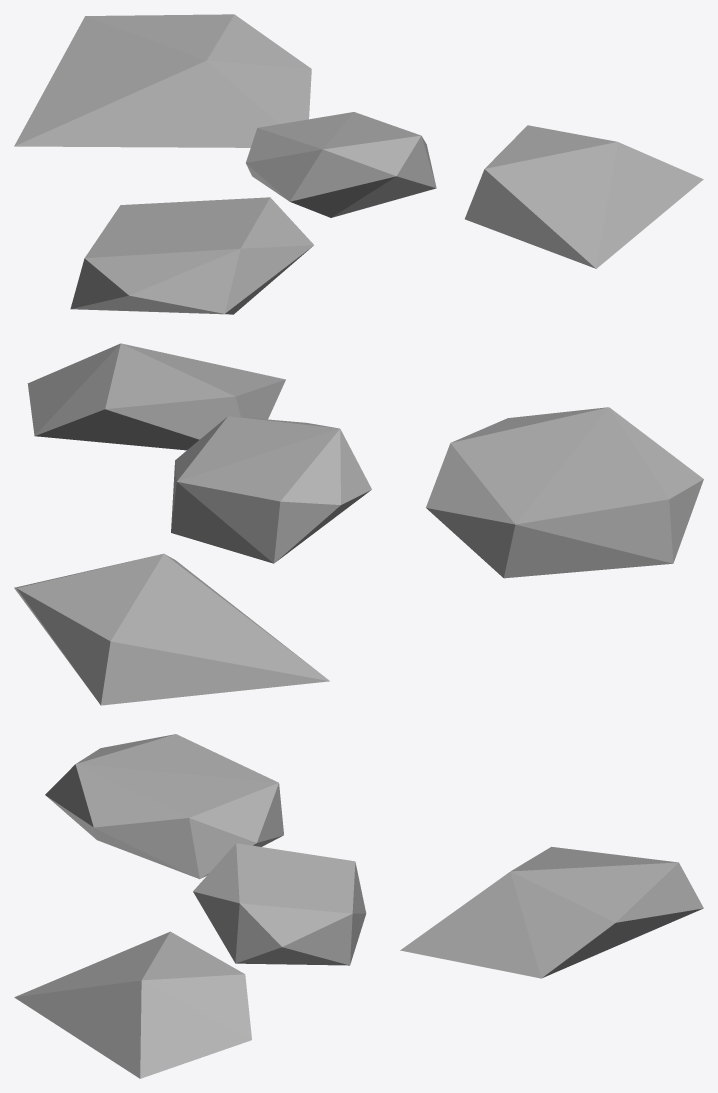
The model's file is Stone 4.fbx.
The picture shows the model from 3 angles, top to bottom: view 1: azimuth 30°, elevation 25°; view 2: azimuth 150°, elevation 25°; view 3: azimuth 270°, elevation 25°; orthographic projection. The views are drawn at different scales.
Visible parts, largest first — view 1: Stone 4; view 2: Stone 4; view 3: Stone 4.
Boxes of the visible parts, left/top/right/bottom form: Stone 4: left=14, top=14, right=703, bottom=314; Stone 4: left=14, top=343, right=703, bottom=705; Stone 4: left=14, top=734, right=703, bottom=1078.
Size of the model in its own units: 12.21 by 1.47 by 12.06.
